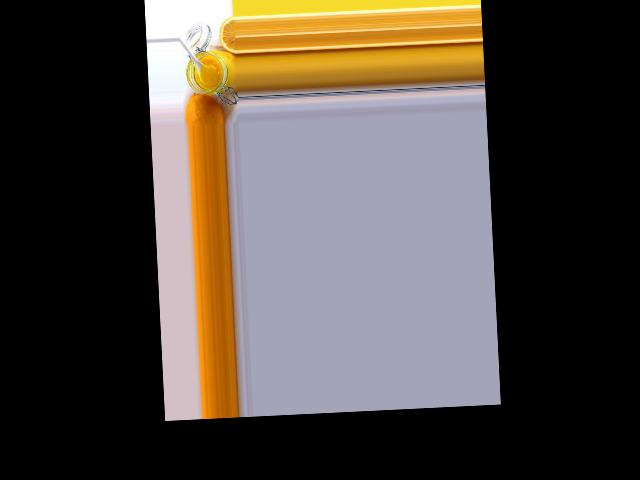lemon: (185, 90, 223, 126)
